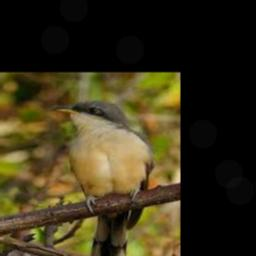Cuckoo: (51, 101, 156, 256)
